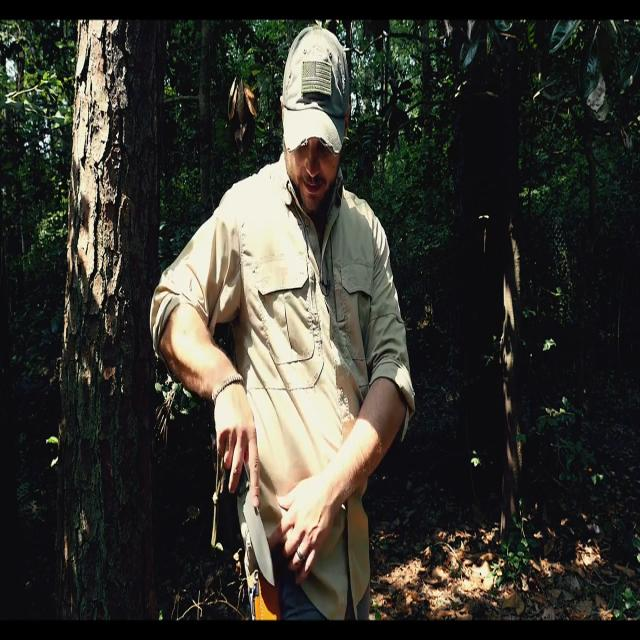knife: (237, 463, 282, 589)
